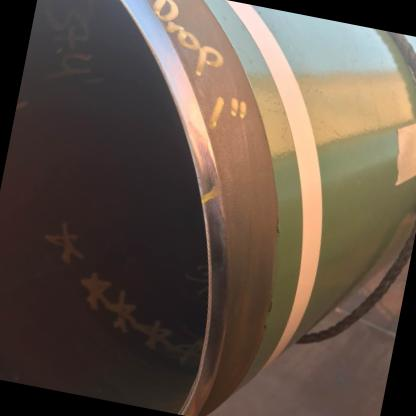Bevel: (181, 119, 234, 257)
